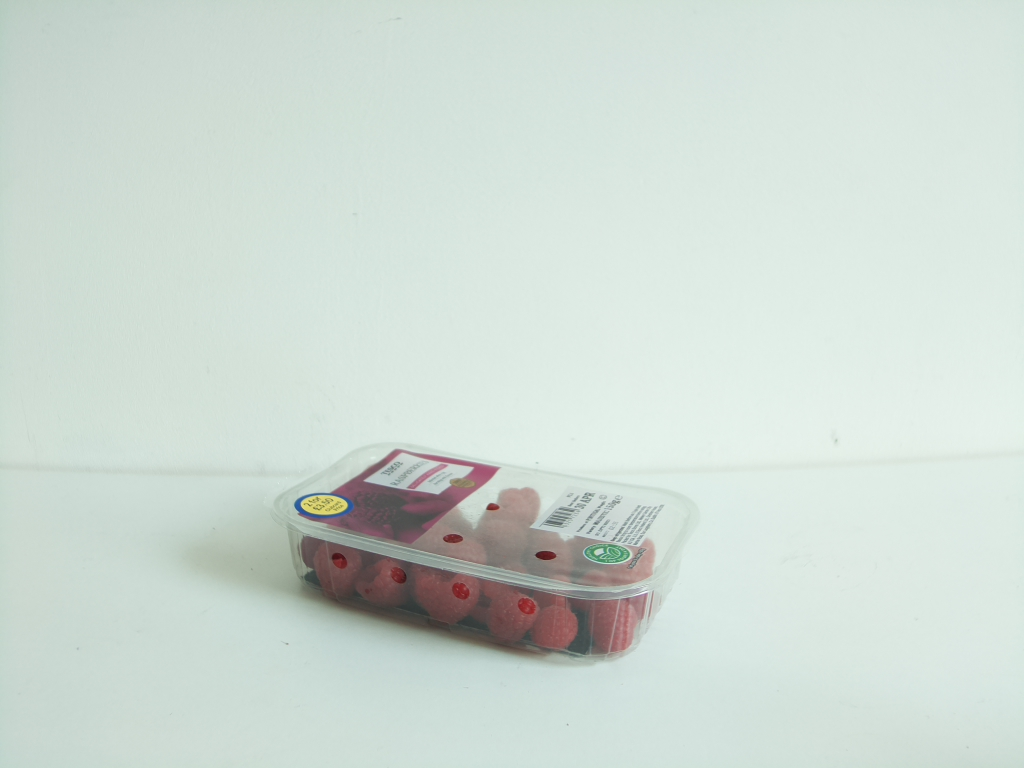soft-fruit: (280, 431, 696, 668)
